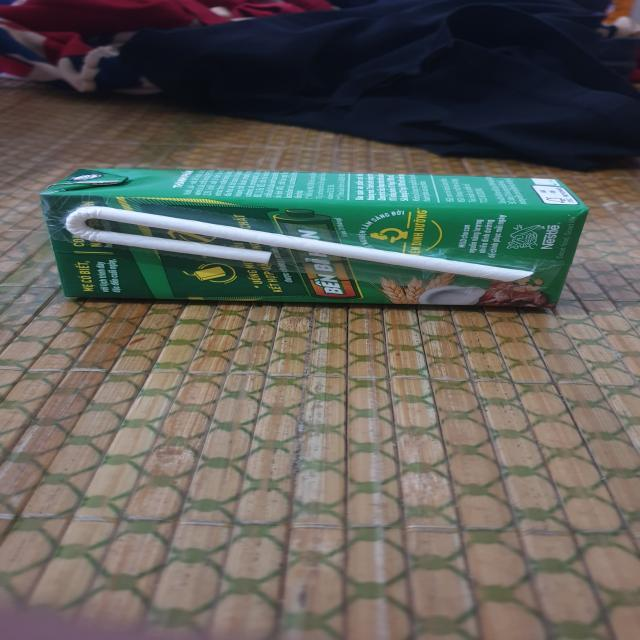Milo: (43, 170, 591, 308)
